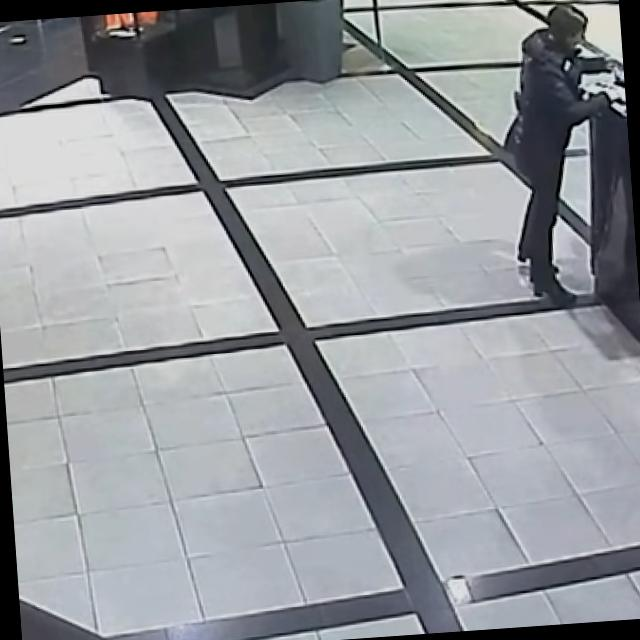person: (492, 0, 639, 307)
